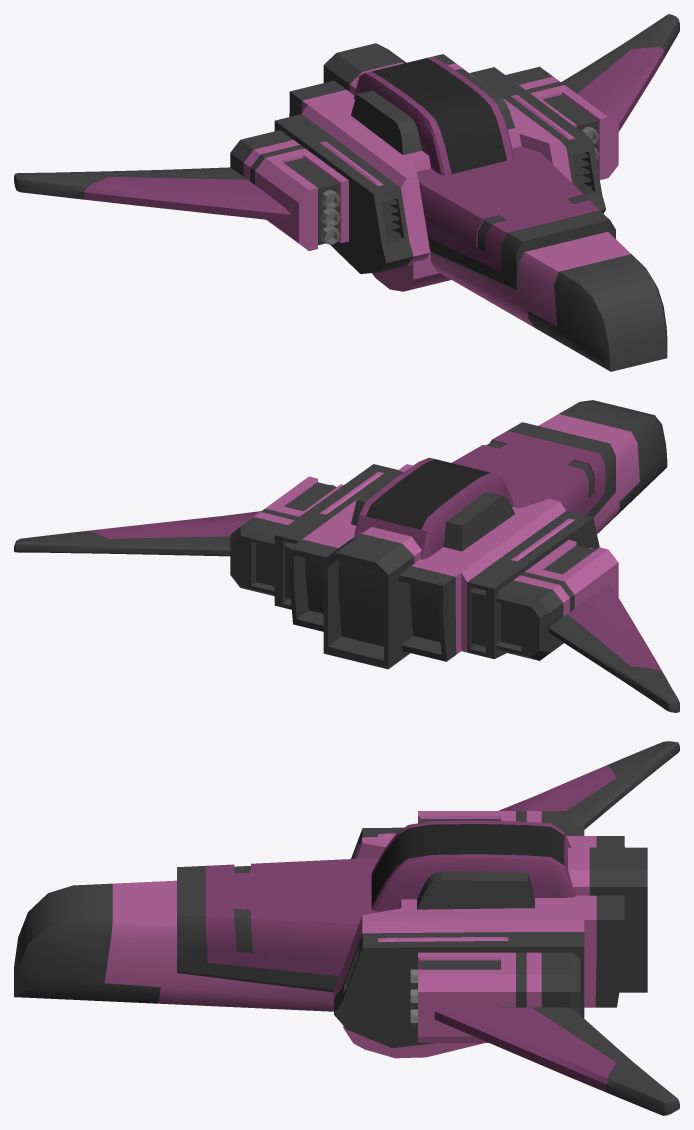
Rendered from cruiser.glb.
The picture shows the model from 3 angles, top to bottom: view 1: azimuth 30°, elevation 25°; view 2: azimuth 150°, elevation 25°; view 3: azimuth 270°, elevation 25°; orthographic projection. The views are drawn at different scales.
Parts seen in each view (by area): view 1: Spaceship_FernandoTheFlamingo; view 2: Spaceship_FernandoTheFlamingo; view 3: Spaceship_FernandoTheFlamingo.
Part boxes in pixels (x1,y1,x2,y2): Spaceship_FernandoTheFlamingo: [14, 14, 679, 371]; Spaceship_FernandoTheFlamingo: [14, 400, 679, 712]; Spaceship_FernandoTheFlamingo: [14, 741, 679, 1115].
Bounding box in the file's own units: 11.14 × 2.53 × 8.66.
Materials: 1 (1 with a texture image).
